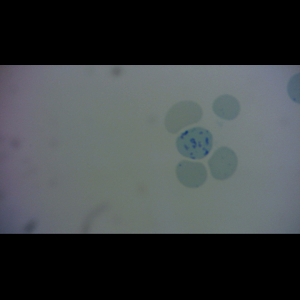aggregate reticulocyte: (175, 126, 213, 160)
erythrocyte: (163, 100, 204, 134), (211, 94, 241, 121)
punctate reticulocyte: (208, 146, 239, 181), (174, 159, 208, 189)
